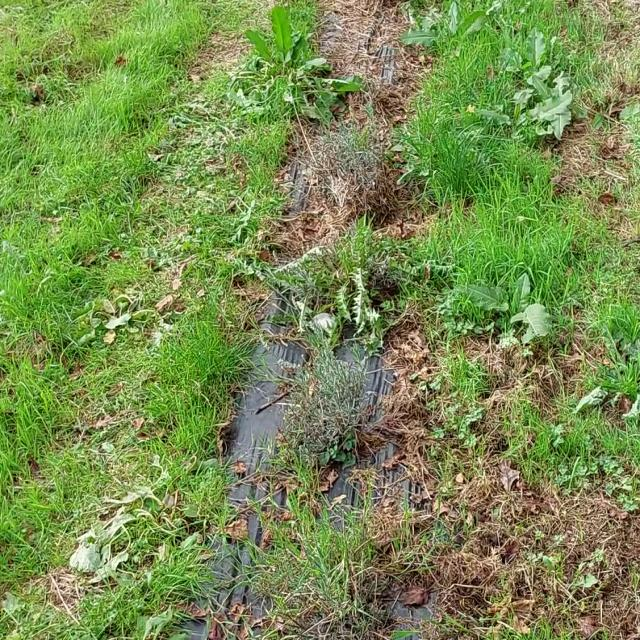organic waste: (224, 2, 345, 138), (492, 52, 600, 165), (458, 246, 572, 350), (63, 504, 157, 586), (405, 0, 500, 80), (73, 276, 164, 348), (491, 8, 568, 90), (585, 354, 640, 424)
